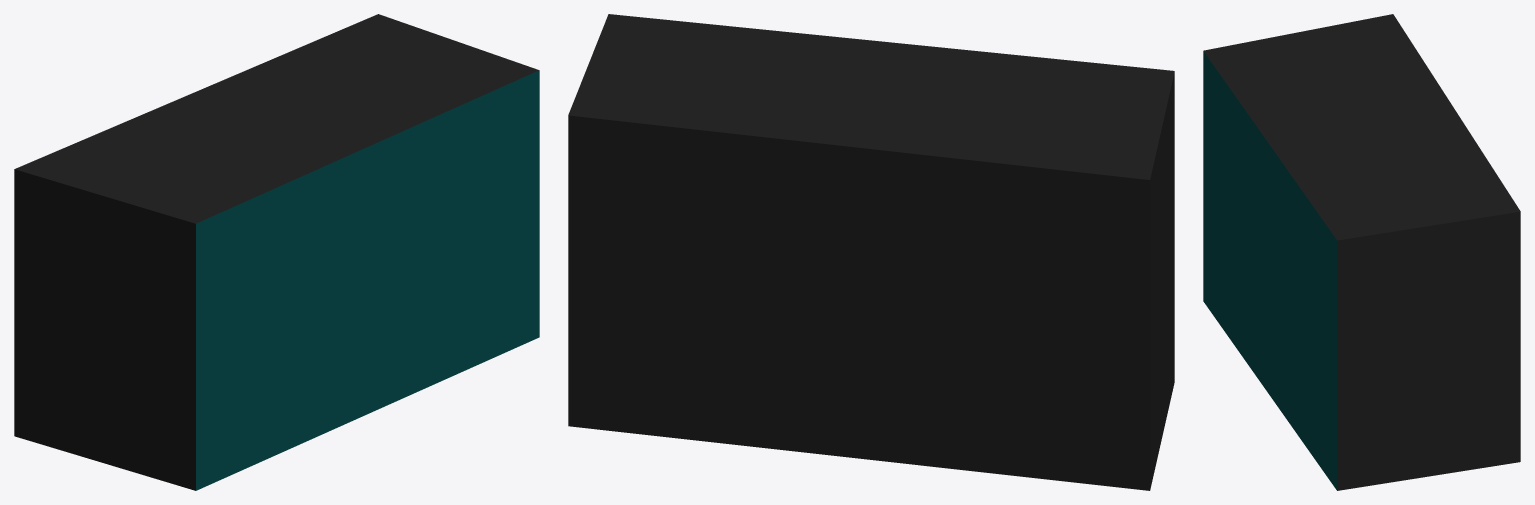
Rendered from B_Werth_71_73_.FBX.
The picture shows the model from 3 angles, left to right: view 1: azimuth 30°, elevation 25°; view 2: azimuth 150°, elevation 25°; view 3: azimuth 270°, elevation 25°; orthographic projection. The views are drawn at different scales.
Visible parts, largest first — view 1: B_Werth_71_73, B_Werth_71_73_Front; view 2: B_Werth_71_73; view 3: B_Werth_71_73, B_Werth_71_73_Front.
Boxes of the visible parts, x1=… form: B_Werth_71_73: x1=14, y1=14, x2=538, y2=490; B_Werth_71_73_Front: x1=196, y1=70, x2=539, y2=490; B_Werth_71_73: x1=568, y1=14, x2=1174, y2=490; B_Werth_71_73: x1=1203, y1=14, x2=1520, y2=490; B_Werth_71_73_Front: x1=1203, y1=51, x2=1337, y2=490.
Bounding box in the file's own units: 3104 × 1600 × 1839.
